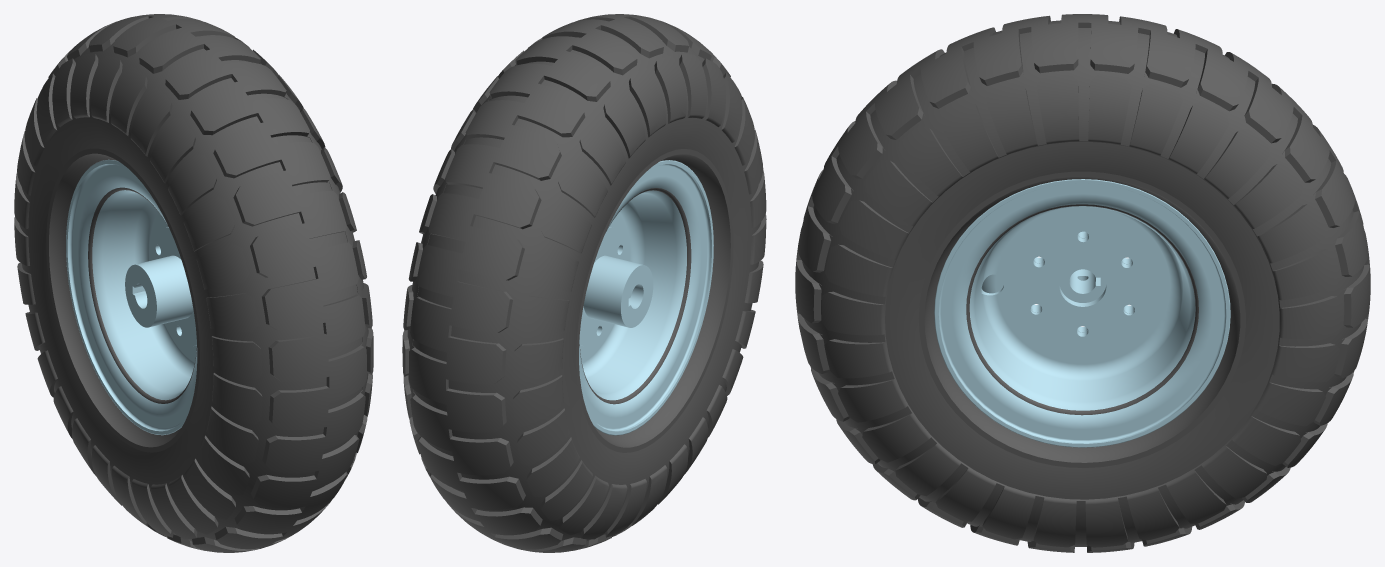
Rendered from ackermann_rear_left_wheel.glb.
3 renders of one model, left to right at view 1: azimuth 30°, elevation 25°; view 2: azimuth 150°, elevation 25°; view 3: azimuth 270°, elevation 25°, orthographic. The views are drawn at different scales.
Parts seen in each view (by area): view 1: 10´胖̥£¨³凸Ö£©_1, 12·¨<_1_2_1_1; view 2: 10´胖̥£¨³凸Ö£©_1, 12·¨<_1_2_1_1; view 3: 10´胖̥£¨³凸Ö£©_1, 12·¨<_1_2_1_1.
Part boxes in pixels (x1,y1,x2,y2): 10´胖̥£¨³凸Ö£©_1: [14, 14, 373, 552]; 12·¨<_1_2_1_1: [66, 159, 197, 435]; 10´胖̥£¨³凸Ö£©_1: [402, 14, 766, 552]; 12·¨<_1_2_1_1: [579, 160, 713, 435]; 10´胖̥£¨³凸Ö£©_1: [795, 14, 1370, 552]; 12·¨<_1_2_1_1: [934, 179, 1230, 447].
Size of the model in its own units: 0.0813 by 0.255 by 0.255.
